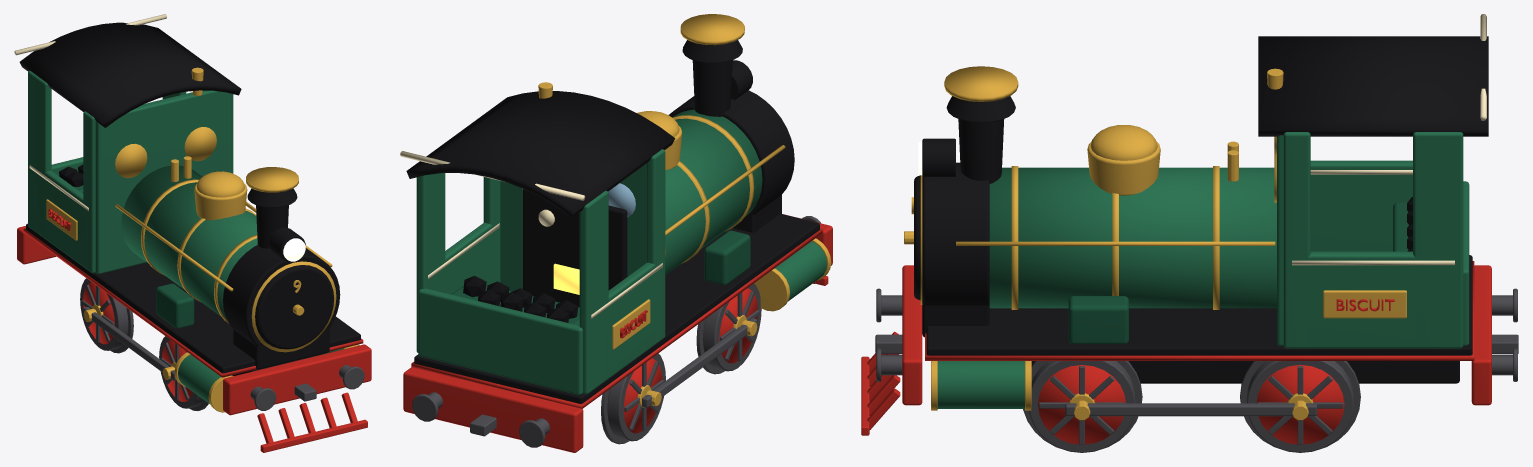
File: loco.glb
3 views of the same model, side by side, from view 1: azimuth 30°, elevation 25°; view 2: azimuth 150°, elevation 25°; view 3: azimuth 270°, elevation 25° (orthographic). The views are drawn at different scales.
Visible parts, largest first — view 1: lo_roof, lo_cabfront, lo_boiler, lo_footplate, lo_door, lo_beam, lo_smokebox, lo_cabside_low, lo_cabside_back, lo_cabside_front, lo_saddle, lo_sandbox (+28 smaller); view 2: lo_roof, lo_cabback, lo_boiler, lo_footplate, lo_beam.001, lo_backhead, lo_cabside_back, lo_smokebox, lo_cabfront, lo_cabside_low, lo_cabside_low.001, lo_cabside_back.001 (+29 smaller); view 3: lo_boiler, lo_roof, lo_footplate, lo_cabside_low.001, lo_cabside_back.001, lo_smokebox, lo_cabside_low, lo_cabside_front.001, lo_frame, lo_cyl.001, lo_valance, wheel_4_face (+27 smaller).
Part boxes in pixels (bbox=[...]): lo_roof: bbox=[19, 22, 241, 127]; lo_cabfront: bbox=[95, 90, 231, 274]; lo_boiler: bbox=[121, 165, 257, 320]; lo_footplate: bbox=[26, 223, 360, 373]; lo_door: bbox=[255, 265, 334, 349]; lo_beam: bbox=[223, 344, 371, 415]; lo_smokebox: bbox=[223, 245, 340, 354]; lo_cabside_low: bbox=[28, 162, 95, 271]; lo_cabside_back: bbox=[28, 71, 51, 237]; lo_cabside_front: bbox=[83, 111, 95, 273]; lo_saddle: bbox=[233, 325, 329, 369]; lo_sandbox: bbox=[156, 283, 194, 328]; lo_roof: bbox=[406, 91, 675, 218]; lo_cabback: bbox=[418, 288, 582, 394]; lo_boiler: bbox=[665, 109, 762, 274]; lo_footplate: bbox=[414, 213, 819, 403]; lo_beam.001: bbox=[403, 367, 583, 452]; lo_backhead: bbox=[523, 189, 627, 306]; lo_cabside_back: bbox=[579, 190, 608, 393]; lo_smokebox: bbox=[669, 90, 794, 214]; lo_cabfront: bbox=[500, 163, 646, 307]; lo_cabside_low: bbox=[579, 262, 664, 394]; lo_cabside_low.001: bbox=[416, 221, 500, 352]; lo_cabside_back.001: bbox=[416, 173, 445, 319]; lo_boiler: bbox=[989, 167, 1276, 308]; lo_roof: bbox=[1258, 36, 1488, 136]; lo_footplate: bbox=[926, 255, 1472, 355]; lo_cabside_low.001: bbox=[1283, 251, 1463, 348]; lo_cabside_back.001: bbox=[1413, 132, 1463, 348]; lo_smokebox: bbox=[922, 162, 989, 305]; lo_cabside_low: bbox=[1310, 160, 1412, 251]; lo_cabside_front.001: bbox=[1283, 132, 1310, 348]; lo_frame: bbox=[1031, 361, 1459, 383]; lo_cyl.001: bbox=[937, 361, 1024, 408]; lo_valance: bbox=[925, 261, 1474, 360]; wheel_4_face: bbox=[1256, 365, 1344, 444].
Size of the model in its own units: 1.52 by 2.43 by 3.92.
